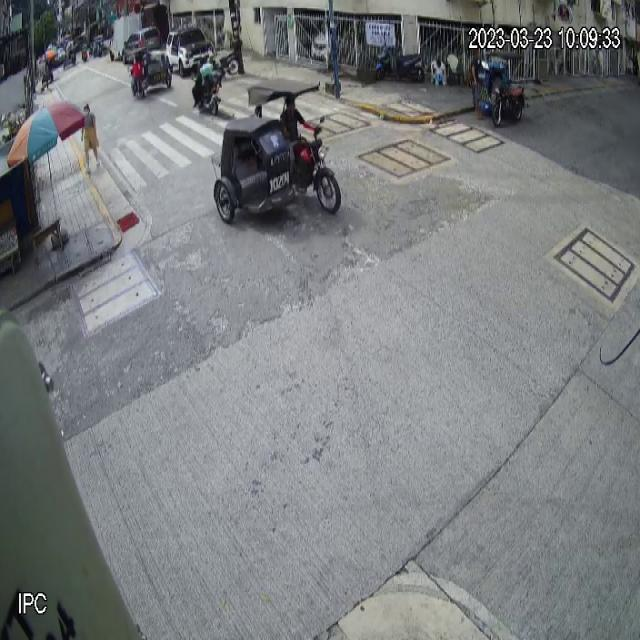Tricycle: (213, 75, 341, 224), (474, 51, 526, 128), (126, 46, 172, 98)
